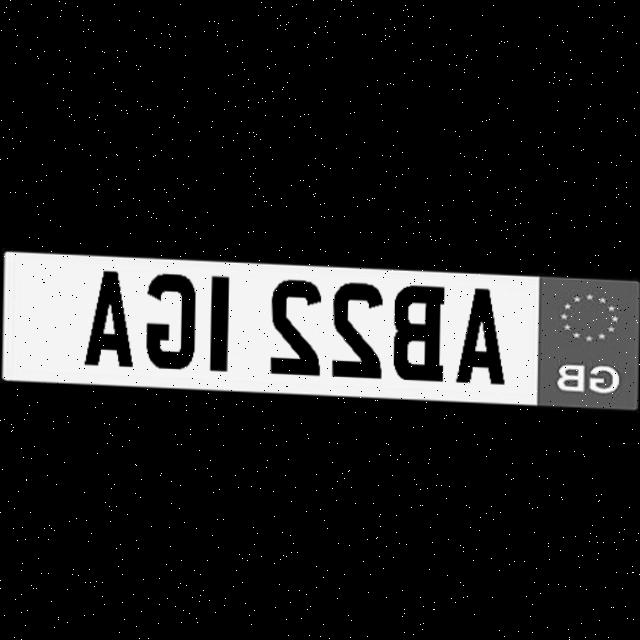license-plates: (0, 249, 638, 409)
